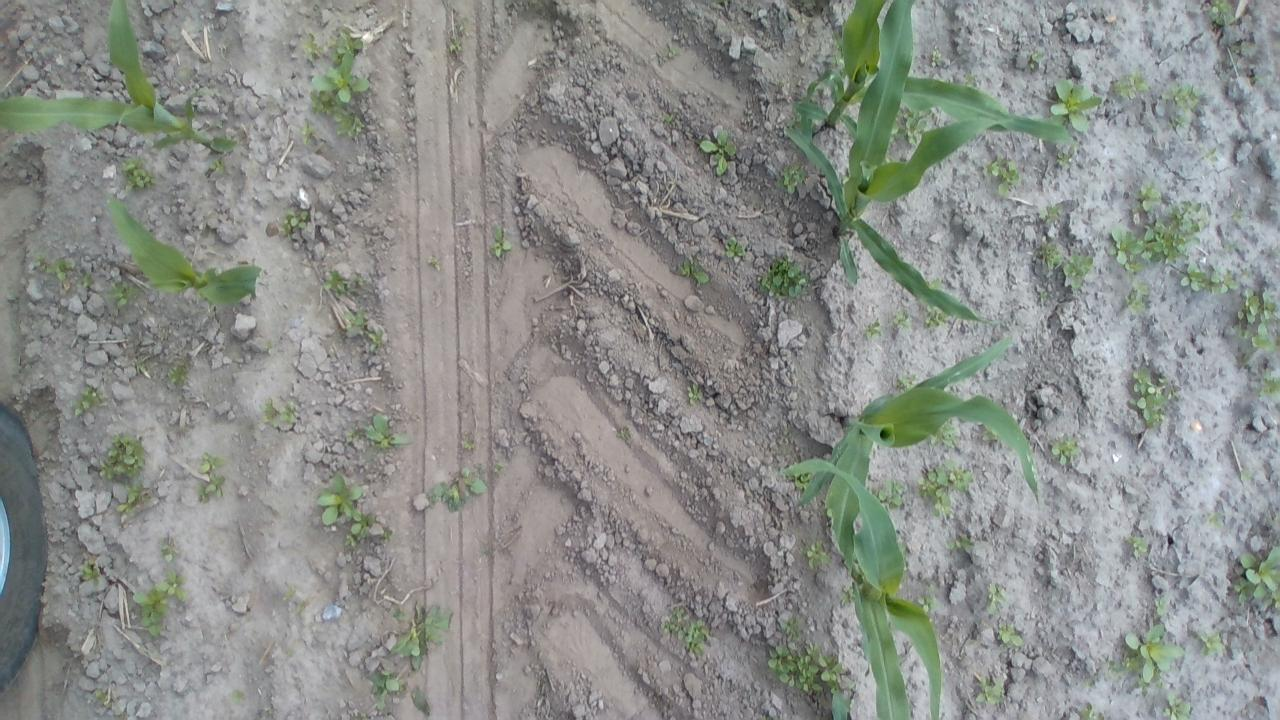Maize: (785, 0, 1008, 327), (796, 336, 1036, 576), (775, 457, 943, 720), (792, 0, 1076, 148), (0, 0, 238, 153), (98, 184, 260, 307)
Weeds: (310, 50, 371, 138), (388, 604, 452, 670), (1144, 200, 1208, 265), (1122, 623, 1184, 689), (133, 570, 188, 638), (918, 460, 974, 516), (1130, 366, 1178, 429), (1233, 546, 1280, 610), (1234, 286, 1280, 350), (1048, 76, 1102, 130), (768, 643, 822, 693), (759, 252, 810, 299), (316, 472, 359, 526), (98, 435, 146, 481), (1105, 226, 1145, 274), (698, 129, 738, 174), (982, 154, 1022, 196), (888, 109, 932, 146), (364, 414, 409, 450), (369, 670, 405, 710), (319, 268, 365, 298), (121, 156, 157, 193), (1062, 253, 1094, 289), (1161, 82, 1202, 110), (678, 618, 708, 654), (1124, 274, 1150, 314), (428, 481, 461, 512), (346, 513, 374, 549), (106, 280, 142, 308), (873, 479, 905, 510), (774, 166, 808, 195), (1051, 434, 1080, 468), (818, 654, 843, 693), (74, 386, 105, 417), (974, 675, 1006, 705), (928, 416, 960, 446), (279, 208, 309, 240), (679, 255, 712, 284), (1113, 71, 1147, 98), (1035, 238, 1063, 270), (118, 482, 146, 514), (328, 28, 362, 54), (1131, 183, 1161, 212), (802, 540, 832, 568), (786, 107, 819, 132), (1179, 263, 1207, 292), (828, 30, 846, 74), (339, 309, 368, 336), (1207, 268, 1238, 293), (1162, 693, 1190, 720), (198, 474, 224, 502), (1208, 0, 1236, 25), (1198, 630, 1224, 656), (923, 304, 950, 329), (461, 467, 486, 494), (660, 606, 684, 634), (300, 33, 324, 60), (46, 257, 74, 280), (996, 624, 1023, 647), (78, 558, 100, 586), (492, 226, 511, 258), (986, 584, 1006, 614), (197, 451, 224, 473), (1256, 374, 1280, 398), (260, 397, 278, 428), (166, 364, 189, 388), (781, 616, 804, 640), (1038, 204, 1062, 226), (1100, 656, 1122, 680), (1126, 534, 1148, 558), (1078, 702, 1106, 720), (656, 41, 679, 61), (896, 373, 919, 392), (890, 309, 910, 330), (725, 237, 746, 257), (916, 592, 937, 612), (788, 472, 814, 488), (410, 688, 428, 711), (946, 535, 973, 550), (301, 120, 316, 146), (864, 319, 882, 339), (279, 403, 297, 423), (368, 328, 382, 352), (686, 383, 702, 404), (981, 424, 1000, 441), (839, 586, 855, 606), (1206, 510, 1222, 530), (1170, 111, 1190, 127), (208, 157, 225, 174), (158, 542, 174, 560), (1154, 596, 1168, 616), (1203, 148, 1220, 164), (78, 270, 93, 288), (1056, 152, 1074, 166), (93, 688, 108, 704), (1030, 51, 1044, 68), (33, 252, 45, 270), (926, 276, 941, 290), (1236, 468, 1252, 481), (1232, 209, 1244, 226), (344, 428, 359, 441), (427, 256, 440, 270), (930, 49, 940, 66), (229, 690, 242, 703), (962, 73, 974, 87), (659, 112, 675, 122), (264, 342, 275, 356), (450, 38, 462, 50), (461, 439, 474, 450), (284, 586, 292, 600), (760, 715, 782, 720), (1082, 678, 1092, 688), (779, 426, 789, 436), (382, 531, 392, 541), (136, 362, 147, 371), (284, 648, 294, 657), (1038, 290, 1047, 300), (494, 464, 502, 474), (822, 508, 831, 516), (1230, 44, 1242, 50), (620, 428, 628, 436), (216, 120, 223, 128), (1251, 76, 1259, 82), (264, 706, 272, 712)
